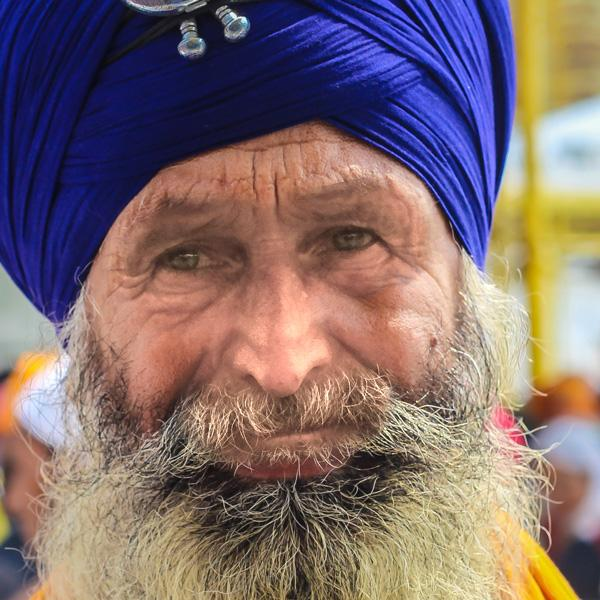Eyes: (143, 227, 241, 288), (299, 211, 385, 274)
